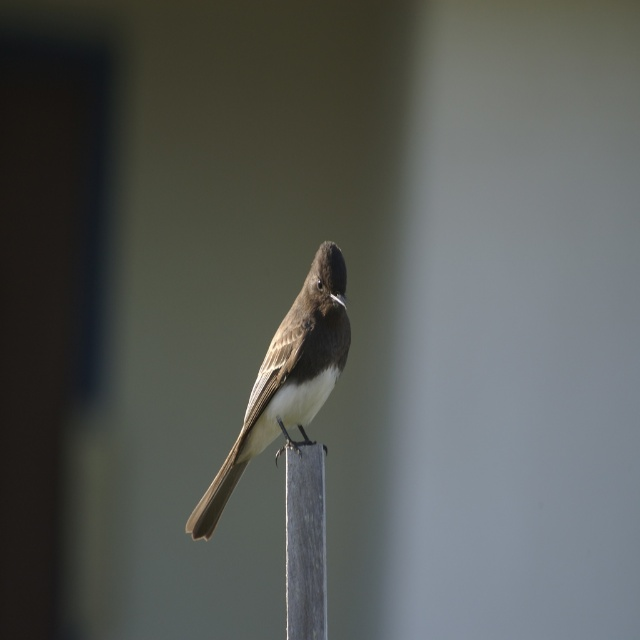Sparrow: (185, 235, 352, 544)
